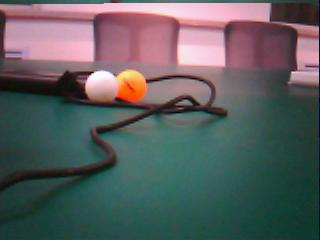oball: (118, 70, 146, 102)
